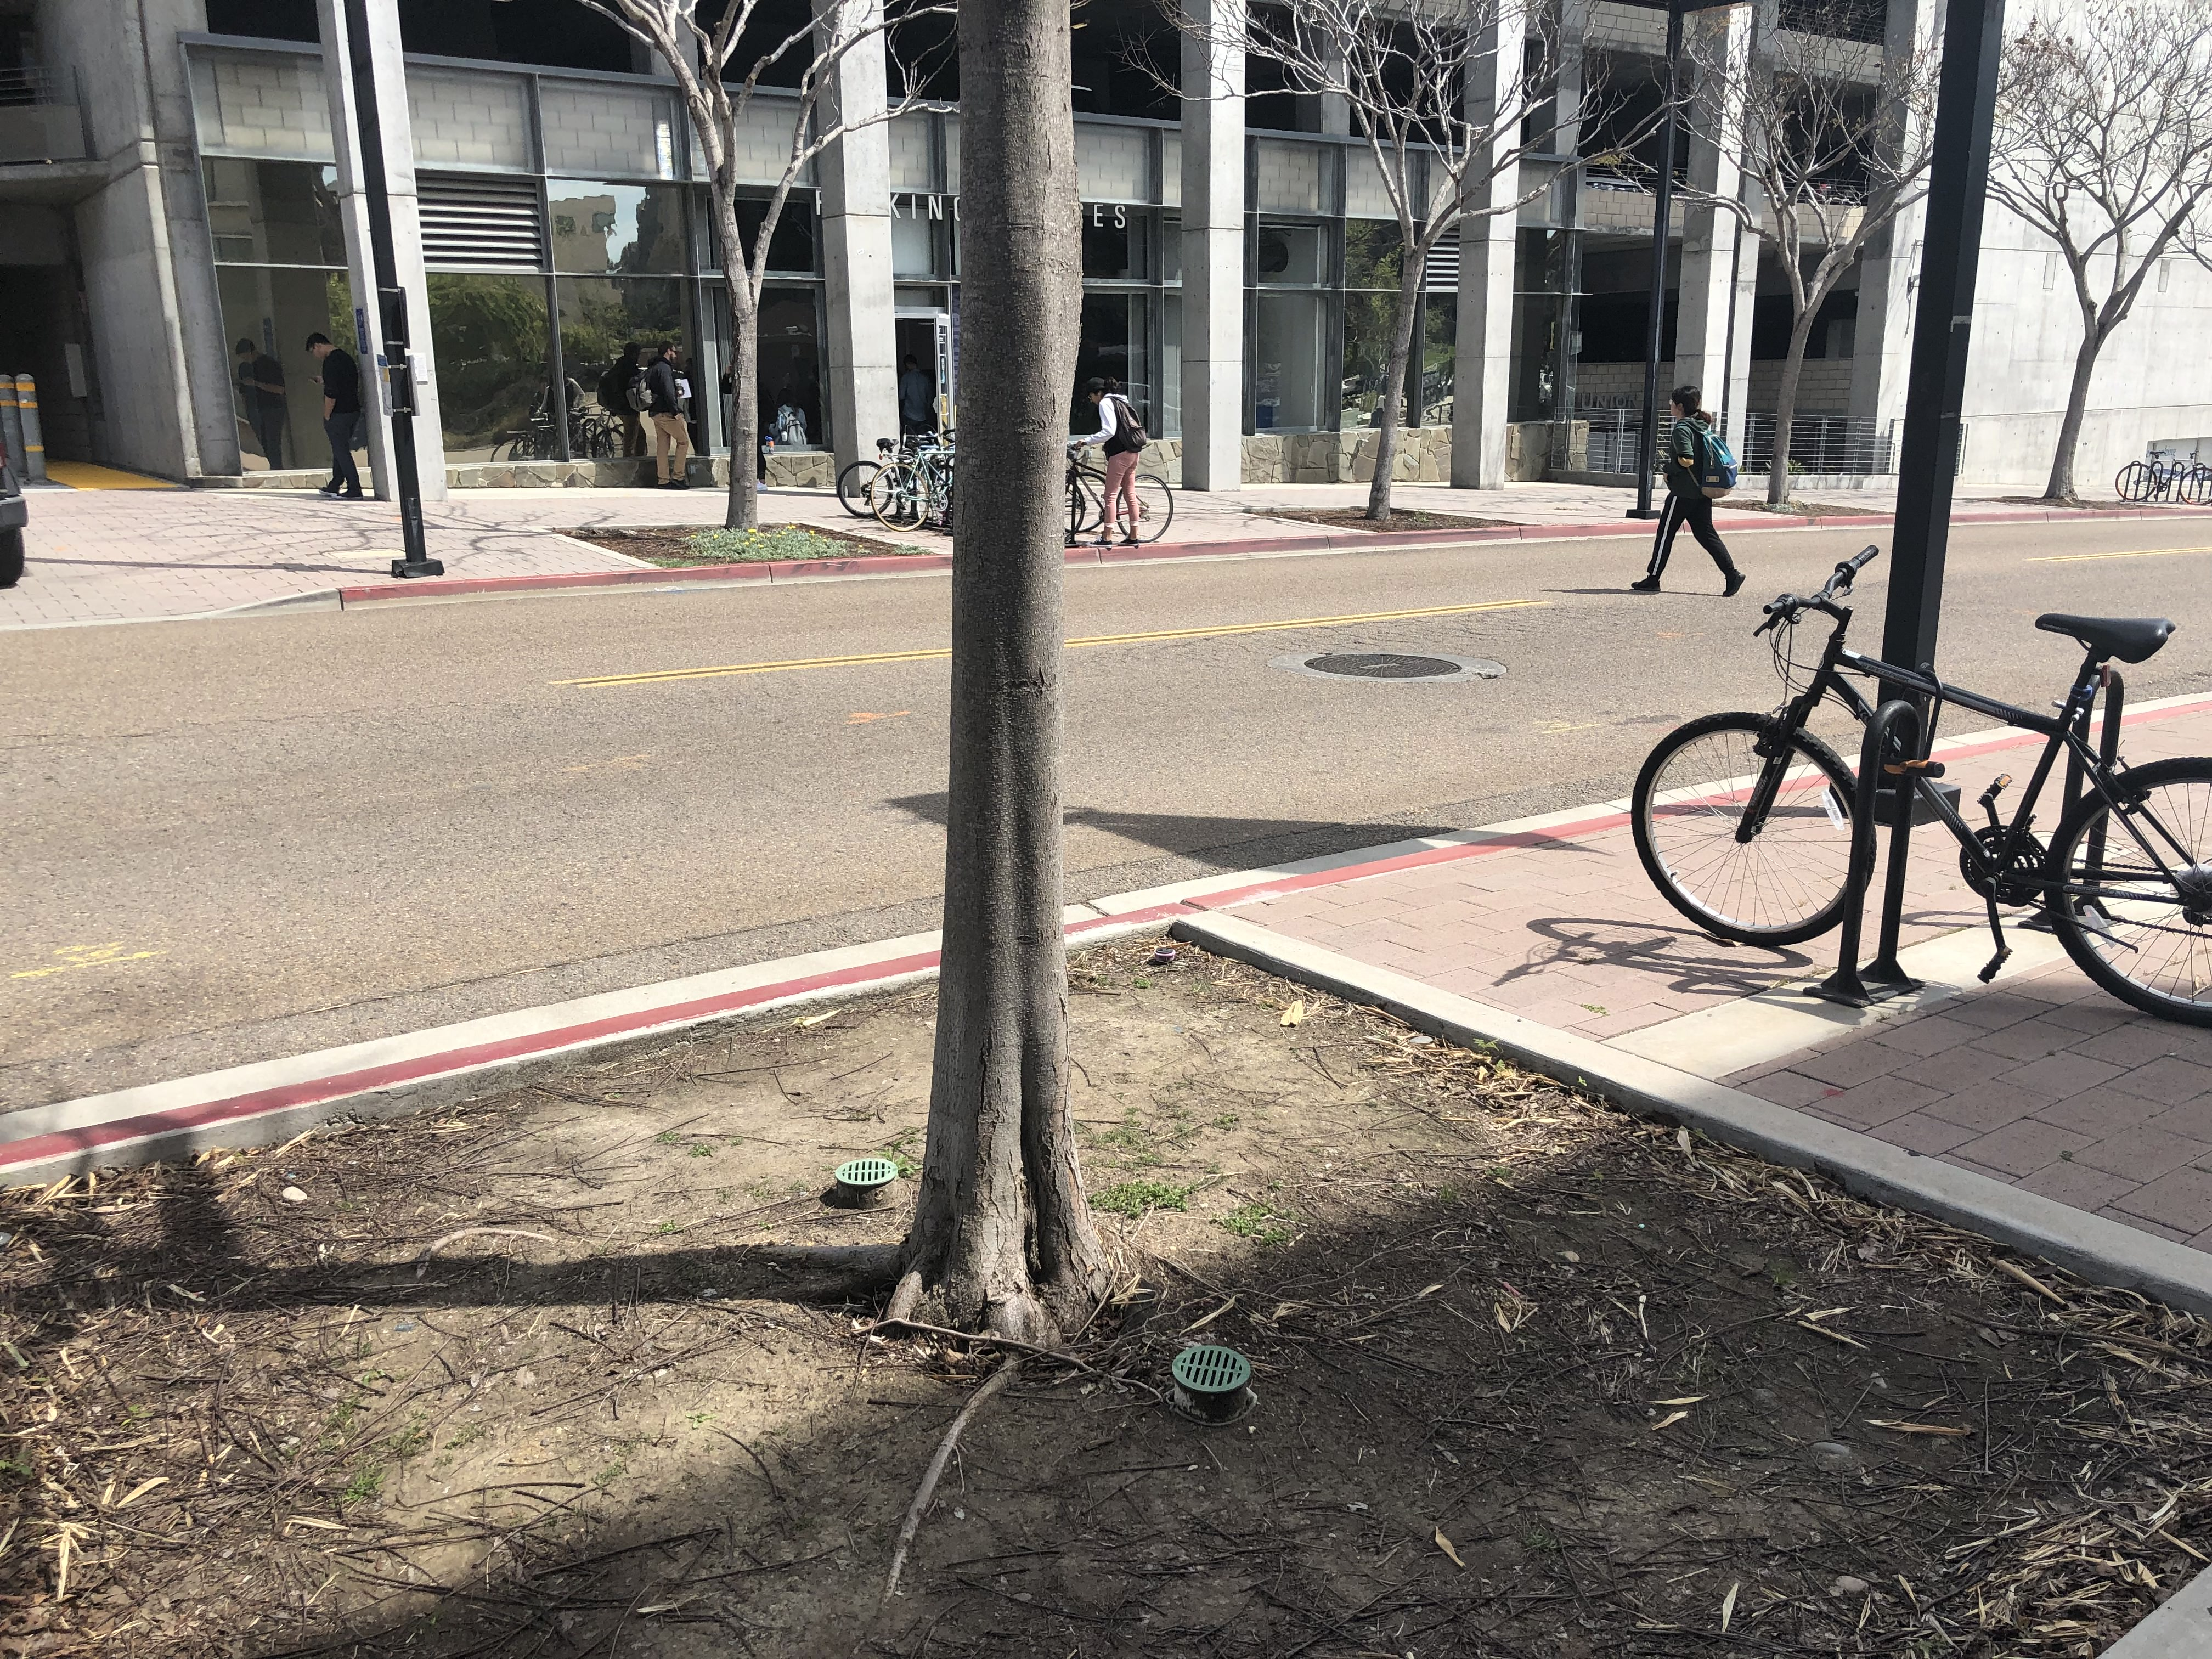Edge: (30, 666, 2196, 1192), (1174, 885, 2205, 1345), (235, 502, 2198, 605), (2097, 1574, 2207, 1652)
Obstacle: (880, 3, 1153, 1358), (1618, 565, 2212, 1040), (1829, 9, 2013, 1009), (1190, 14, 1644, 227), (334, 0, 453, 577), (1639, 380, 1749, 606), (1367, 193, 1414, 526)
